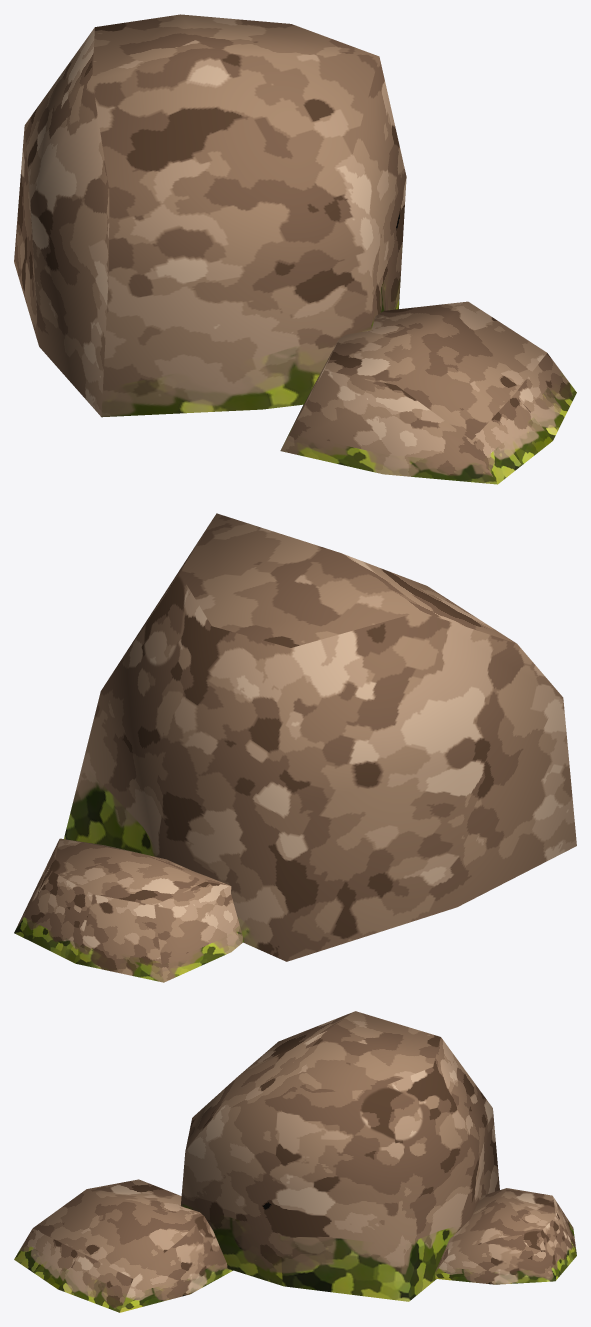
The model's file is rock_10.FBX.
3 renders of one model, top to bottom at view 1: azimuth 30°, elevation 25°; view 2: azimuth 150°, elevation 25°; view 3: azimuth 270°, elevation 25°, orthographic. The views are drawn at different scales.
Parts seen in each view (by area): view 1: Piedra009; view 2: Piedra009; view 3: Piedra009.
Part boxes in pixels (left/top/right/bottom): Piedra009: left=14, top=14, right=576, bottom=484; Piedra009: left=14, top=513, right=576, bottom=982; Piedra009: left=14, top=1011, right=576, bottom=1312.
Size of the model in its own units: 2.2 by 3.88 by 1.55.
Materials: 1 (1 with a texture image).
